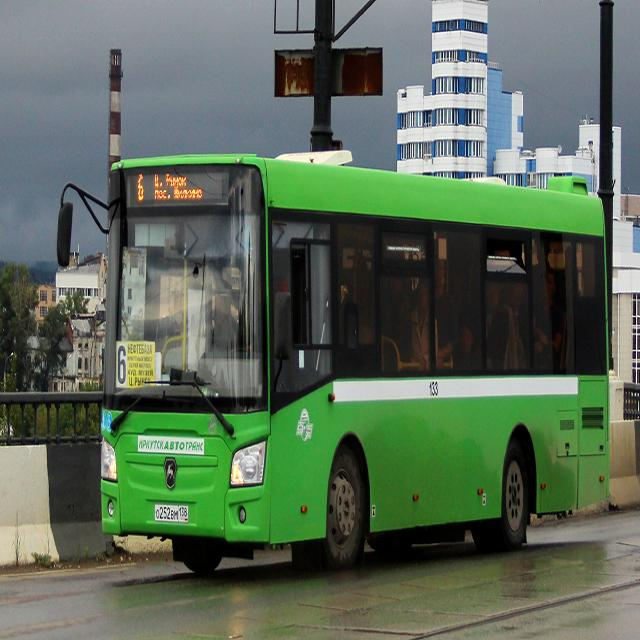number-of-bus: (118, 344, 128, 386)
